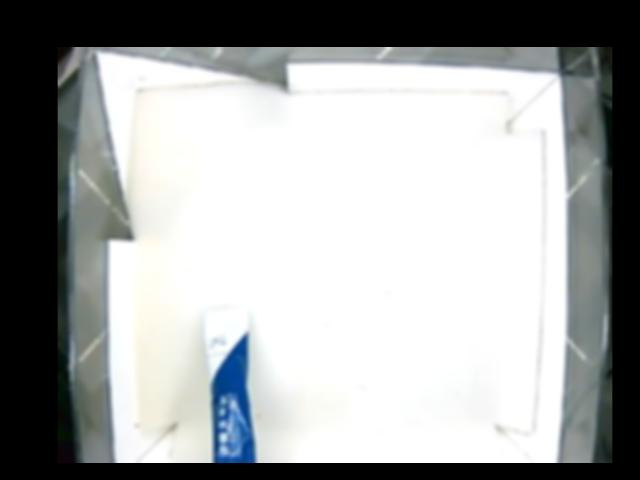Medicine: (203, 308, 256, 461)
